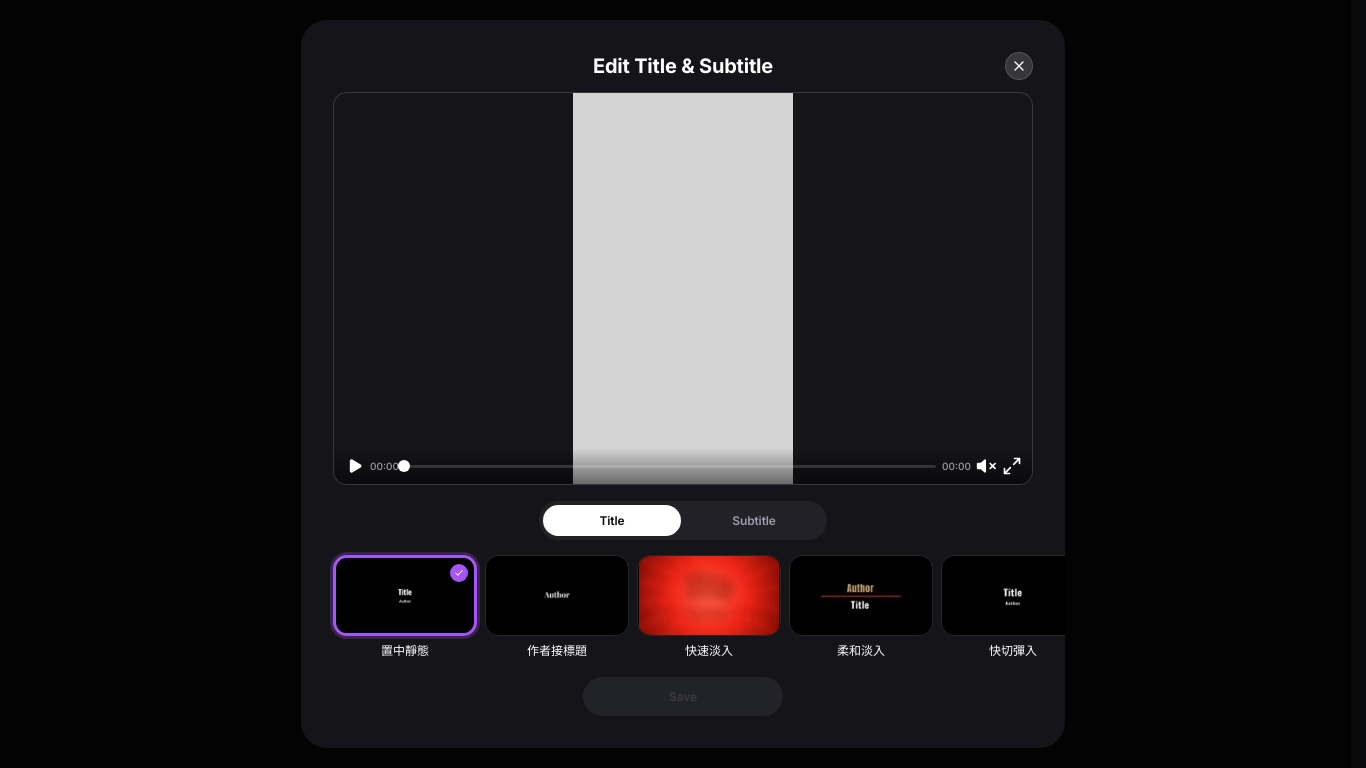
Test: MV effects draft boundaries › disables activation and sample subtitles when synchronized lyrics are absent
The image size is (1366, 768).
Click the tab "Subtitle" at coordinates (754, 520), box top-left (685, 505), bottom-right (823, 536)
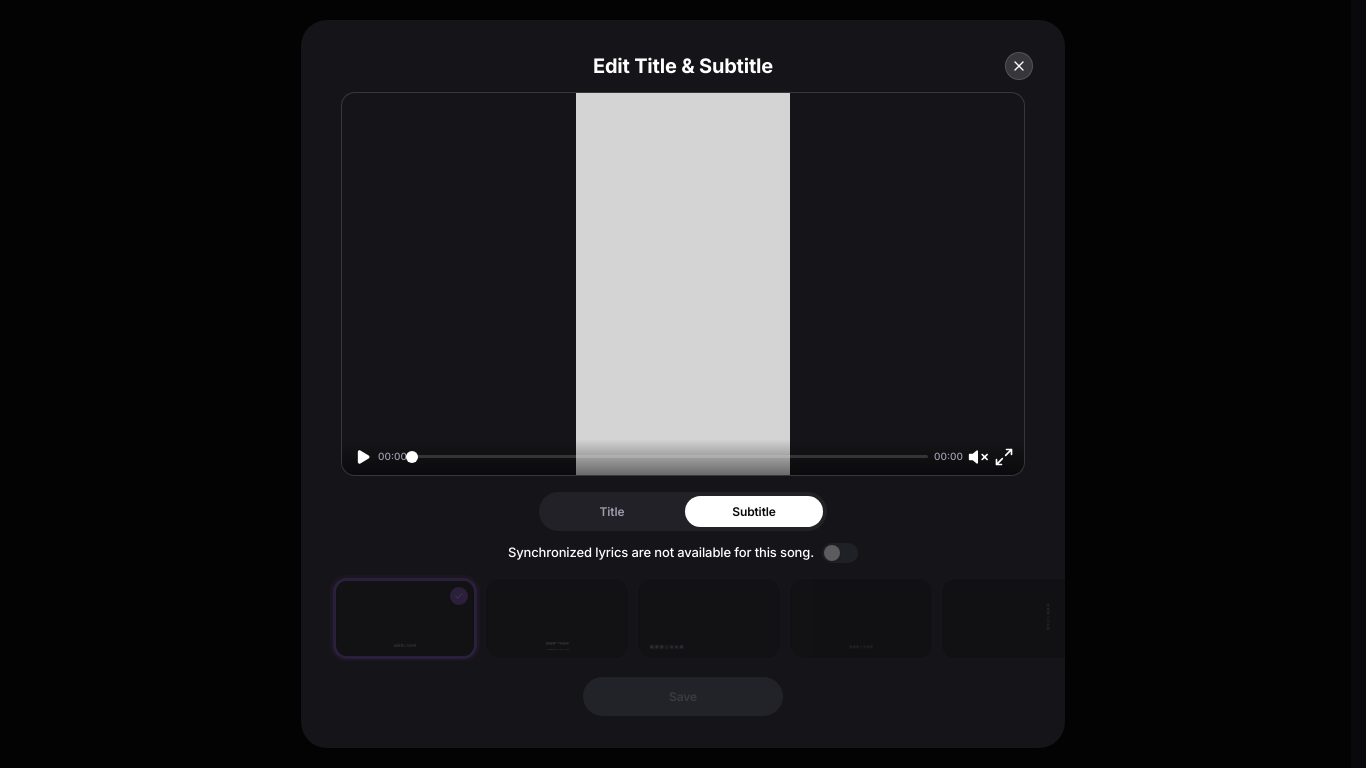
Expected: the button "Save" is disabled, top-left (583, 677), bottom-right (783, 716)
Result: the text "Synchronized lyrics are not available for this song." is shown at top-left (508, 543), bottom-right (814, 563)
Result: the switch named "Turn subtitles on" is disabled at top-left (822, 543), bottom-right (858, 563)
